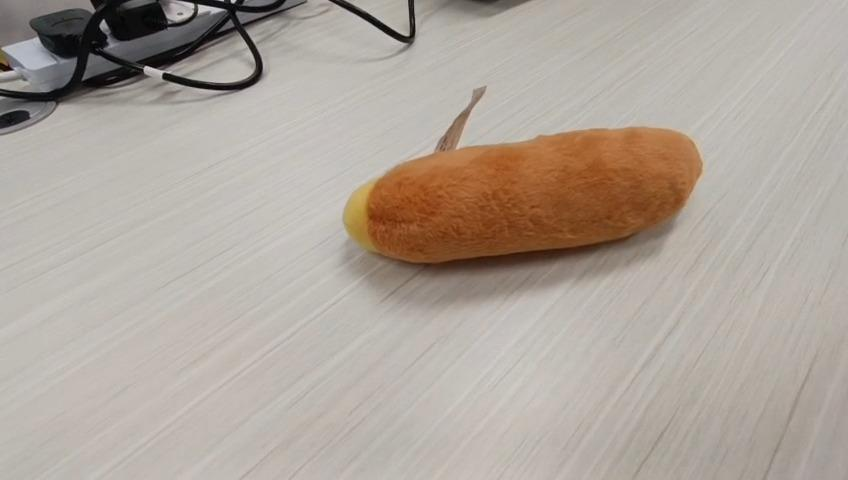hotdog: (341, 84, 703, 264)
